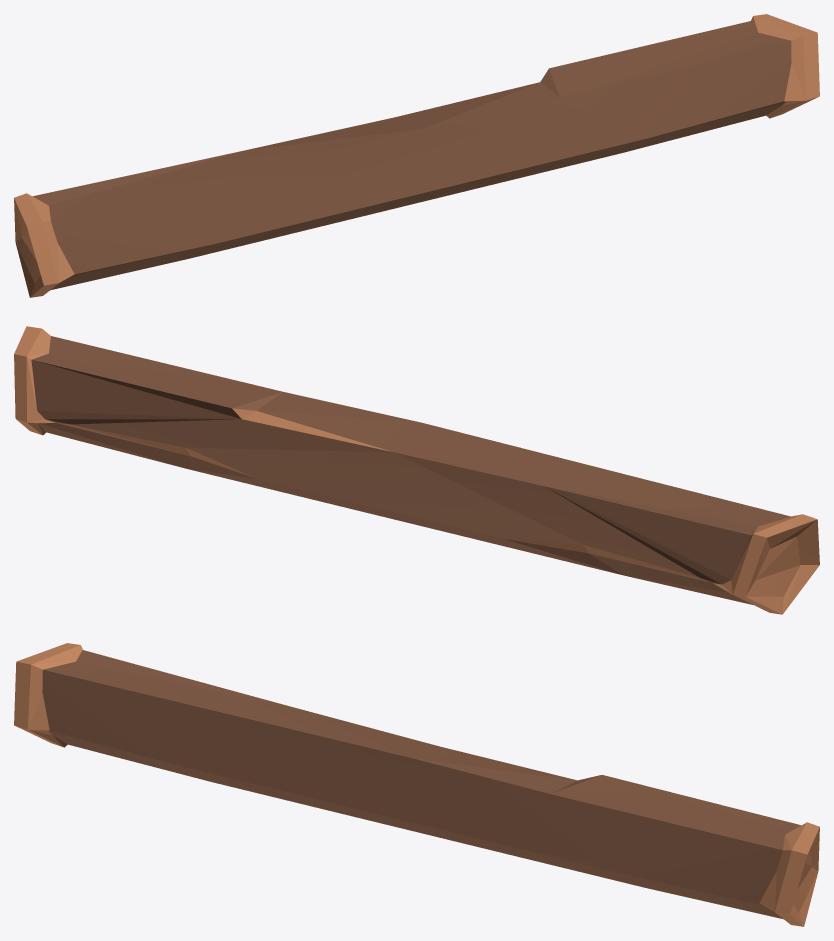
Rendered from Wood.fbx.
The picture shows the model from 3 angles, top to bottom: view 1: azimuth 30°, elevation 25°; view 2: azimuth 150°, elevation 25°; view 3: azimuth 330°, elevation 25°; orthographic projection.
Visible parts, largest first — view 1: LuxHouse.001; view 2: LuxHouse.001; view 3: LuxHouse.001.
Boxes of the visible parts, x1=… form: LuxHouse.001: x1=14, y1=14, x2=819, y2=297; LuxHouse.001: x1=14, y1=326, x2=819, y2=614; LuxHouse.001: x1=14, y1=643, x2=819, y2=926.
Size of the model in its own units: 289 by 31.74 by 33.38.
